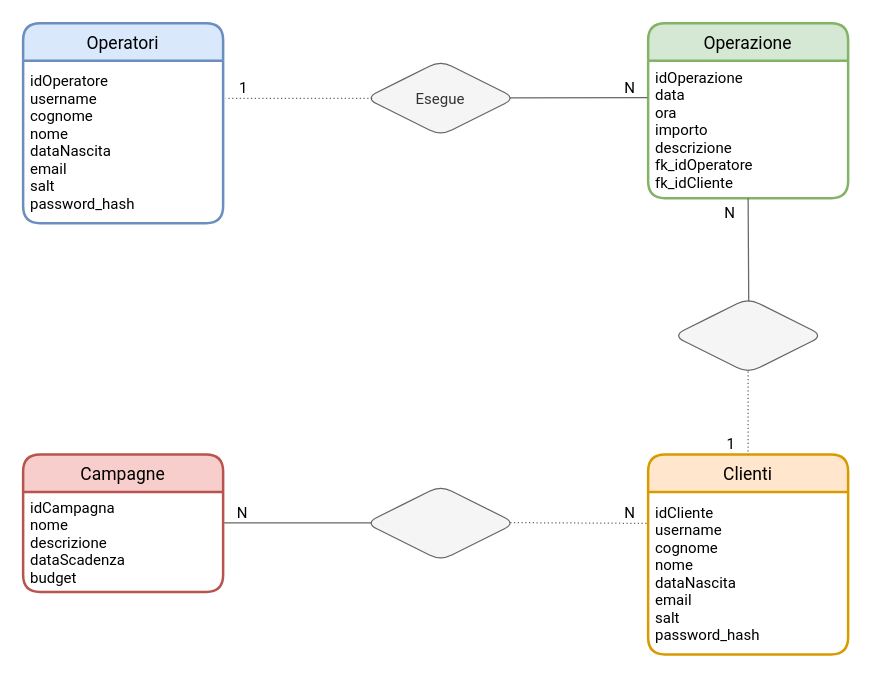
The diagram is 870 pixels wide and 676 high, and some of its shapes have lost their labels. The shapes that lost their labels are listed below. From the top down, each one's centre as x and y in pixels, then its label:
At pixel 747 335: "Indirizzate".
At pixel 440 522: "Invia".
